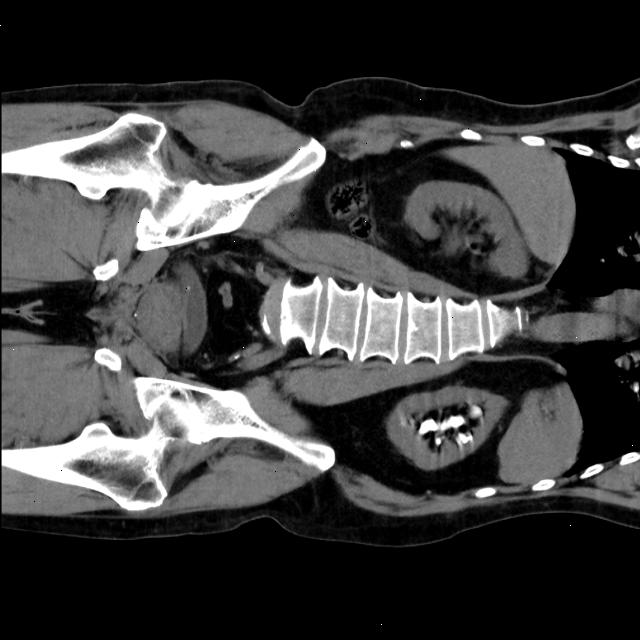kidneystone: (469, 405, 484, 418), (458, 434, 472, 444), (434, 436, 441, 447)
